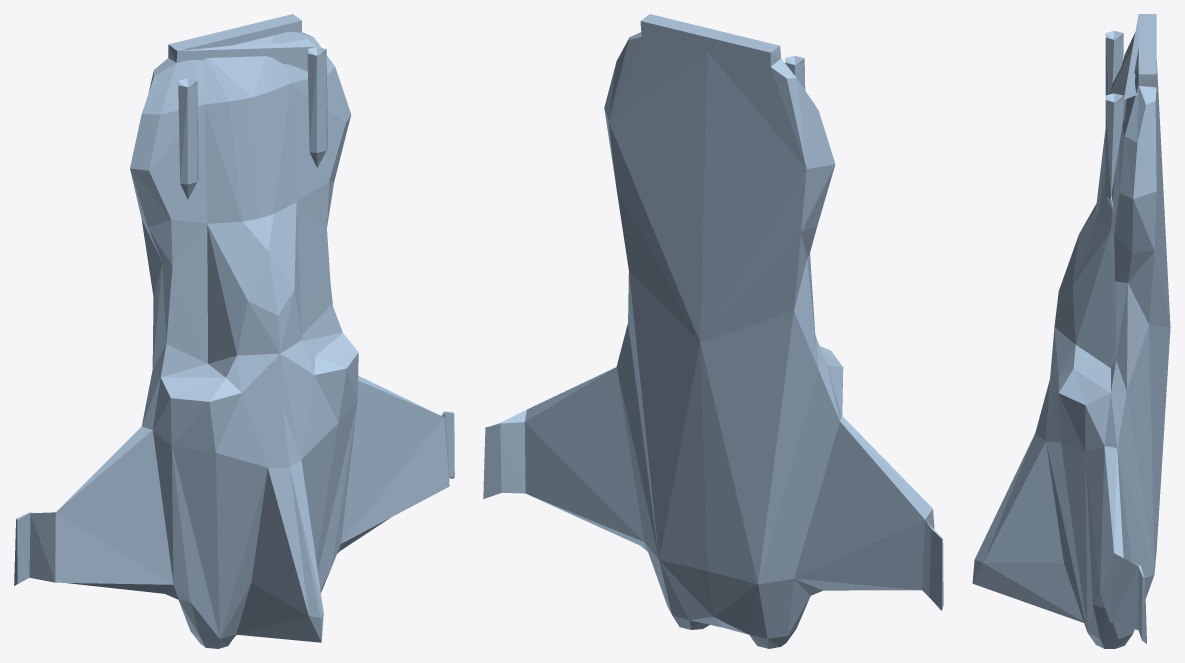
The model's file is 31.shipLOD358.obj.
3 views of the same model, side by side, from view 1: azimuth 30°, elevation 25°; view 2: azimuth 150°, elevation 25°; view 3: azimuth 270°, elevation 25° (orthographic). The views are drawn at different scales.
Visible parts, largest first — view 1: 31.shipLOD358; view 2: 31.shipLOD358; view 3: 31.shipLOD358.
Part boxes in pixels (box(x1,y1,x2,y2)): 31.shipLOD358: box(14, 14, 454, 648); 31.shipLOD358: box(483, 14, 943, 648); 31.shipLOD358: box(972, 14, 1170, 648).
Bounding box in the file's own units: 47.2 × 60.3 × 18.6.
